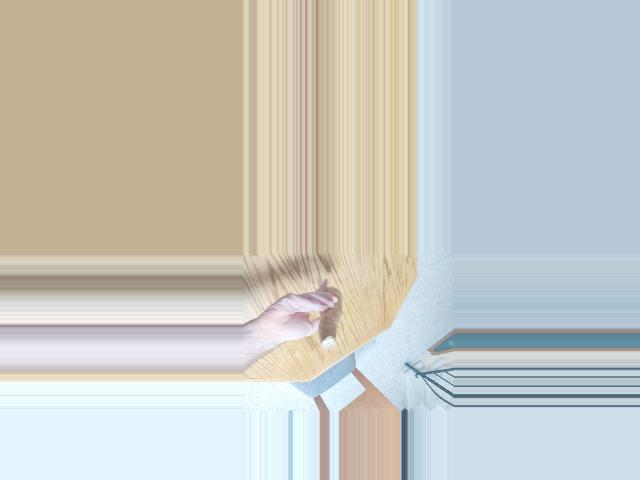sweet_potato: (311, 294, 345, 346)
